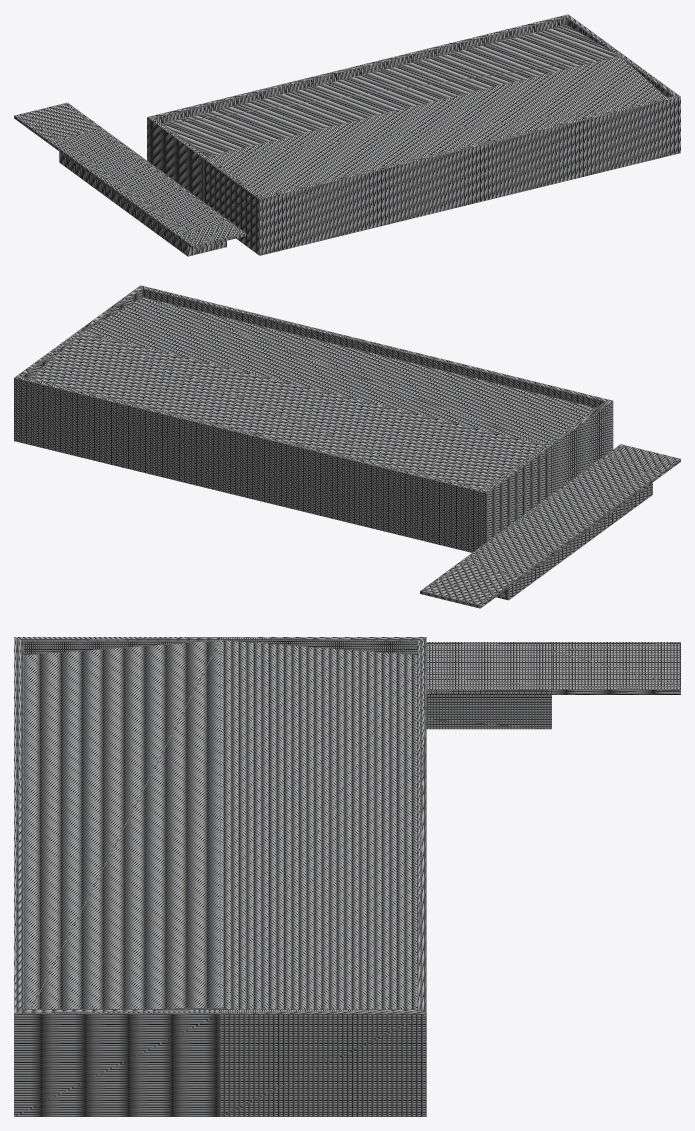
File: SmallGalpao.gltf
The picture shows the model from 3 angles, top to bottom: view 1: azimuth 30°, elevation 25°; view 2: azimuth 150°, elevation 25°; view 3: azimuth 270°, elevation 25°; orthographic projection. The views are drawn at different scales.
Visible parts, largest first — view 1: node1; view 2: node1; view 3: node1.
Boxes of the visible parts, x1=… form: node1: x1=14, y1=14, x2=680, y2=256; node1: x1=14, y1=285, x2=680, y2=608; node1: x1=14, y1=637, x2=680, y2=1116.
Bounding box in the file's own units: 54.77 × 6.25 × 35.62.
